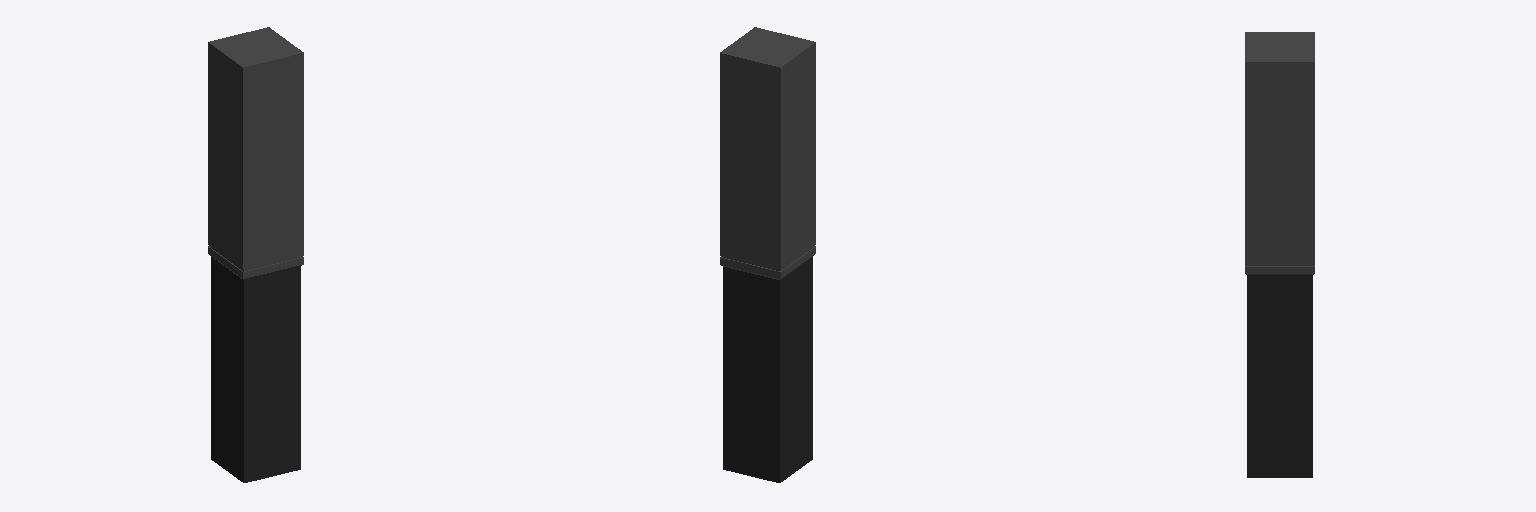
Rendered from Column_1.obj.
The picture shows the model from 3 angles: view 1: azimuth 30°, elevation 25°; view 2: azimuth 150°, elevation 25°; view 3: azimuth 270°, elevation 25°; orthographic projection.
Parts seen in each view (by area): view 1: Column_1_Plane.266; view 2: Column_1_Plane.266; view 3: Column_1_Plane.266.
Boxes of the visible parts, <box> form: Column_1_Plane.266: <box>208,27,303,482</box>; Column_1_Plane.266: <box>720,27,815,482</box>; Column_1_Plane.266: <box>1245,32,1314,477</box>.
Size of the model in its own units: 0.6843 by 4.46 by 0.6843.